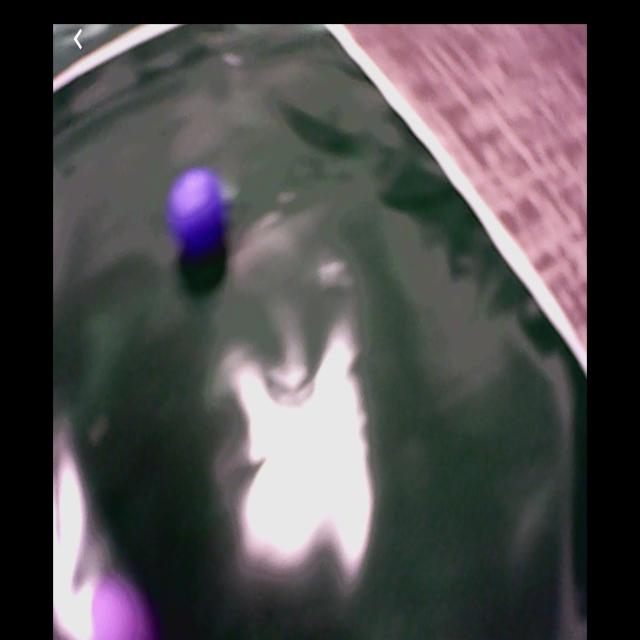ball: (72, 576, 154, 640), (170, 166, 219, 250)
